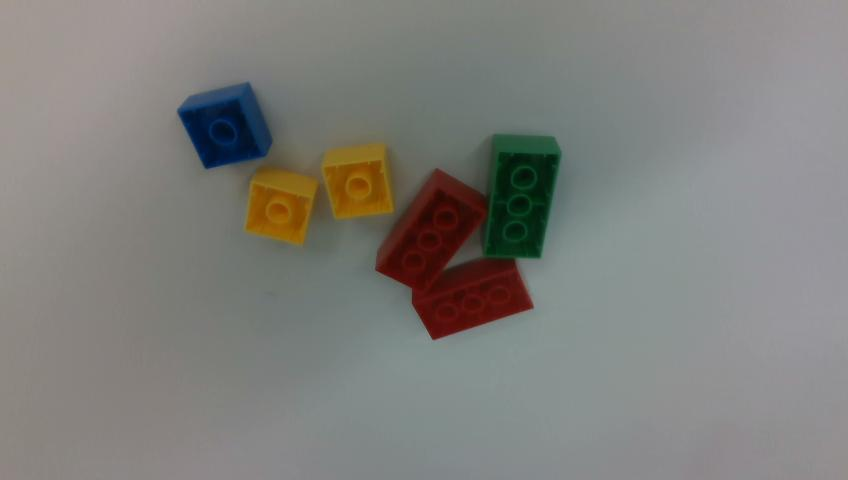2x2_blue: (177, 82, 274, 168)
2x2_yellow: (321, 144, 397, 218), (246, 167, 317, 244)
4x2_green: (483, 135, 564, 257)
4x2_red: (377, 169, 489, 292), (412, 256, 532, 339)
